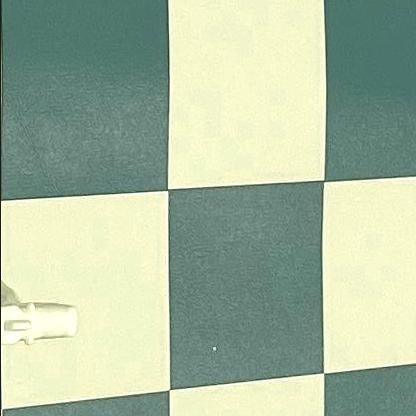white-knight: (0, 240, 79, 375)
